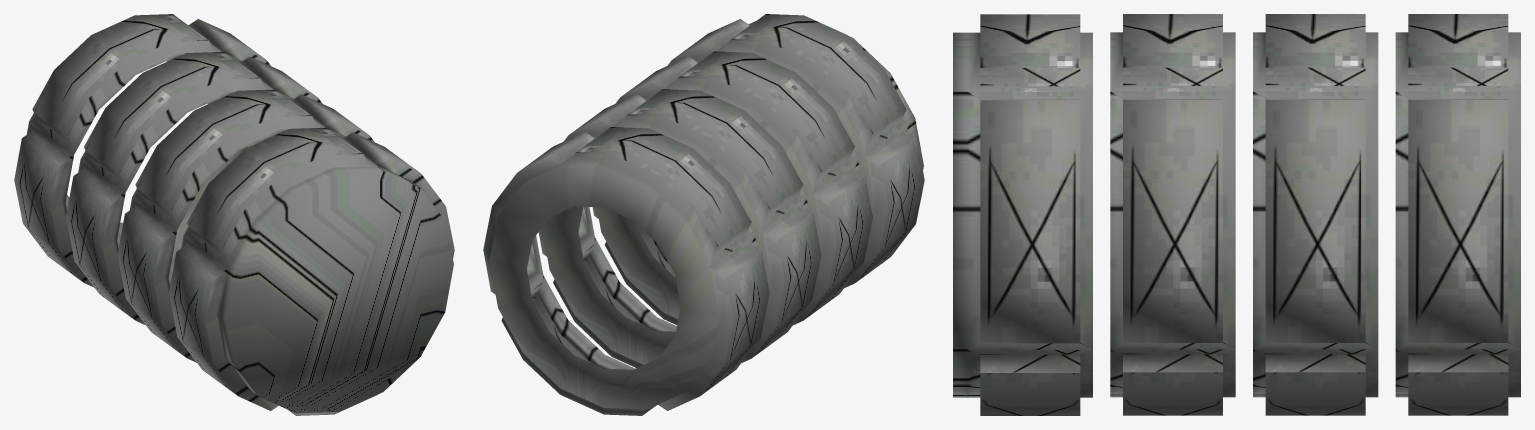
The model's file is Cypher_only.glb.
The picture shows the model from 3 angles, left to right: view 1: azimuth 30°, elevation 25°; view 2: azimuth 150°, elevation 25°; view 3: azimuth 270°, elevation 25°; orthographic projection. The views are drawn at different scales.
Visible parts, largest first — view 1: cypher4, cypher1, cypher2, cypher3; view 2: cypher1, cypher2, cypher3, cypher4; view 3: cypher4, cypher1, cypher2, cypher3.
Boxes of the visible parts, x1,y1,x2,y2 form: cypher4: (169,127,454,415); cypher1: (14,14,270,287); cypher2: (66,51,322,324); cypher3: (117,89,374,362); cypher1: (483,127,769,415); cypher2: (538,89,821,367); cypher3: (592,51,872,325); cypher4: (667,14,924,288); cypher4: (953,14,1092,415); cypher1: (1395,14,1520,415); cypher2: (1253,14,1378,415); cypher3: (1110,14,1235,415).
Size of the model in its own units: 0.3069 by 0.3072 by 0.4365.
1 material, 1 textured.
